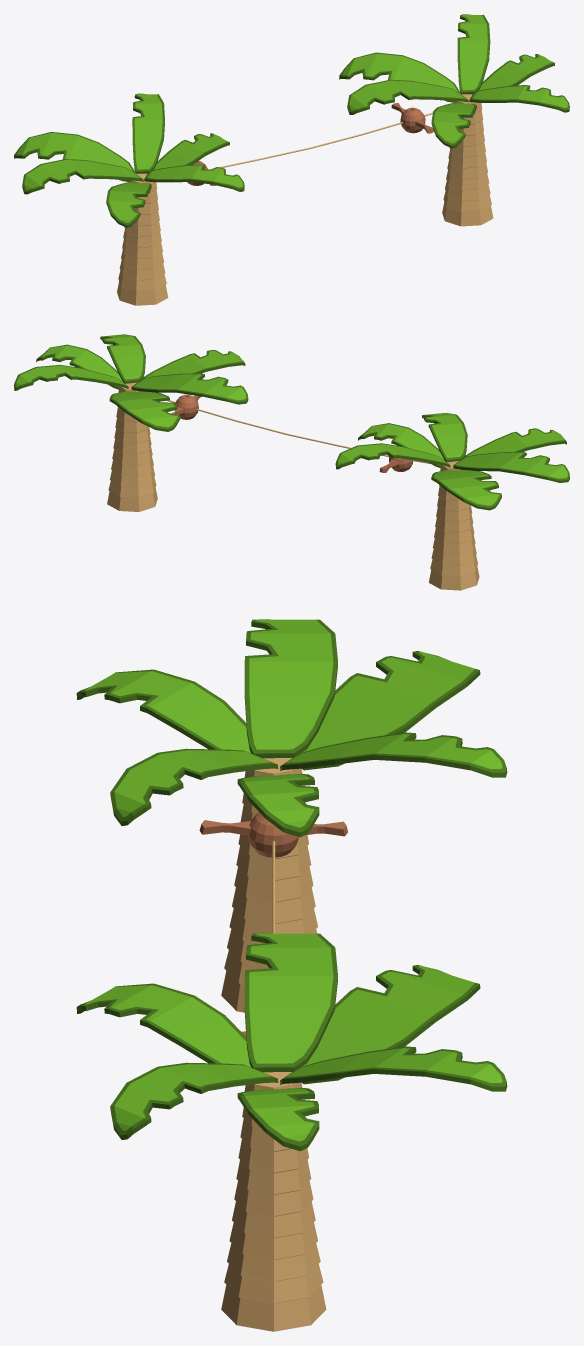
File: palm_zipline_equal_long.glb
3 renders of one model, top to bottom at view 1: azimuth 30°, elevation 25°; view 2: azimuth 150°, elevation 25°; view 3: azimuth 270°, elevation 25°, orthographic. The views are drawn at different scales.
Visible parts, largest first — view 1: Zipline-col, HolderRight-col; view 2: Zipline-col, HolderRight-col, HolderLeft-col; view 3: Zipline-col, HolderLeft-col.
Part boxes in pixels (<box>): Zipline-col: <box>14,14,569,305</box>; HolderRight-col: <box>391,103,434,133</box>; Zipline-col: <box>14,334,569,590</box>; HolderRight-col: <box>170,394,201,419</box>; HolderLeft-col: <box>379,456,412,472</box>; Zipline-col: <box>76,619,507,1331</box>; HolderLeft-col: <box>199,812,347,857</box>.
Size of the model in its own units: 17 by 4.56 by 6.02.
Materials: 1 (1 with a texture image).
